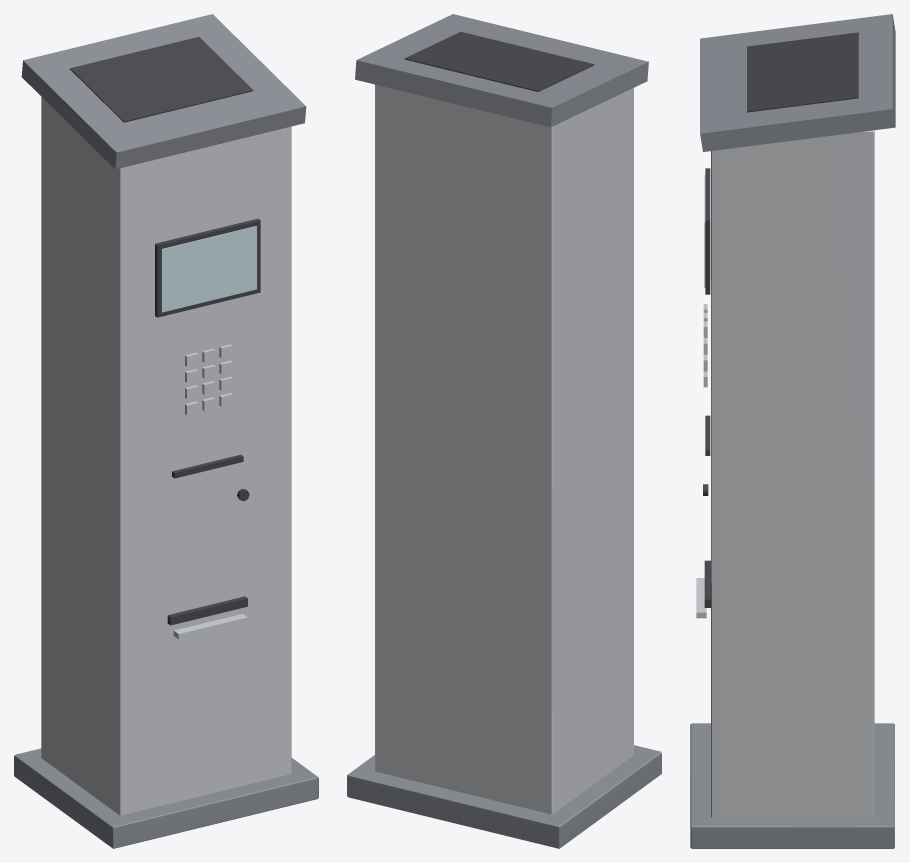
The model's file is PayStation_Street.fbx.
3 renders of one model, left to right at view 1: azimuth 30°, elevation 25°; view 2: azimuth 150°, elevation 25°; view 3: azimuth 270°, elevation 25°, orthographic. The views are drawn at different scales.
Parts seen in each view (by area): view 1: LOD0; view 2: LOD0; view 3: LOD0.
Boxes of the visible parts, left/top/right/bottom form: LOD0: left=14, top=14, right=318, bottom=848; LOD0: left=347, top=14, right=661, bottom=848; LOD0: left=690, top=14, right=895, bottom=848.
Size of what is drawn, in the model's own units: 48 by 159 by 40.09.
